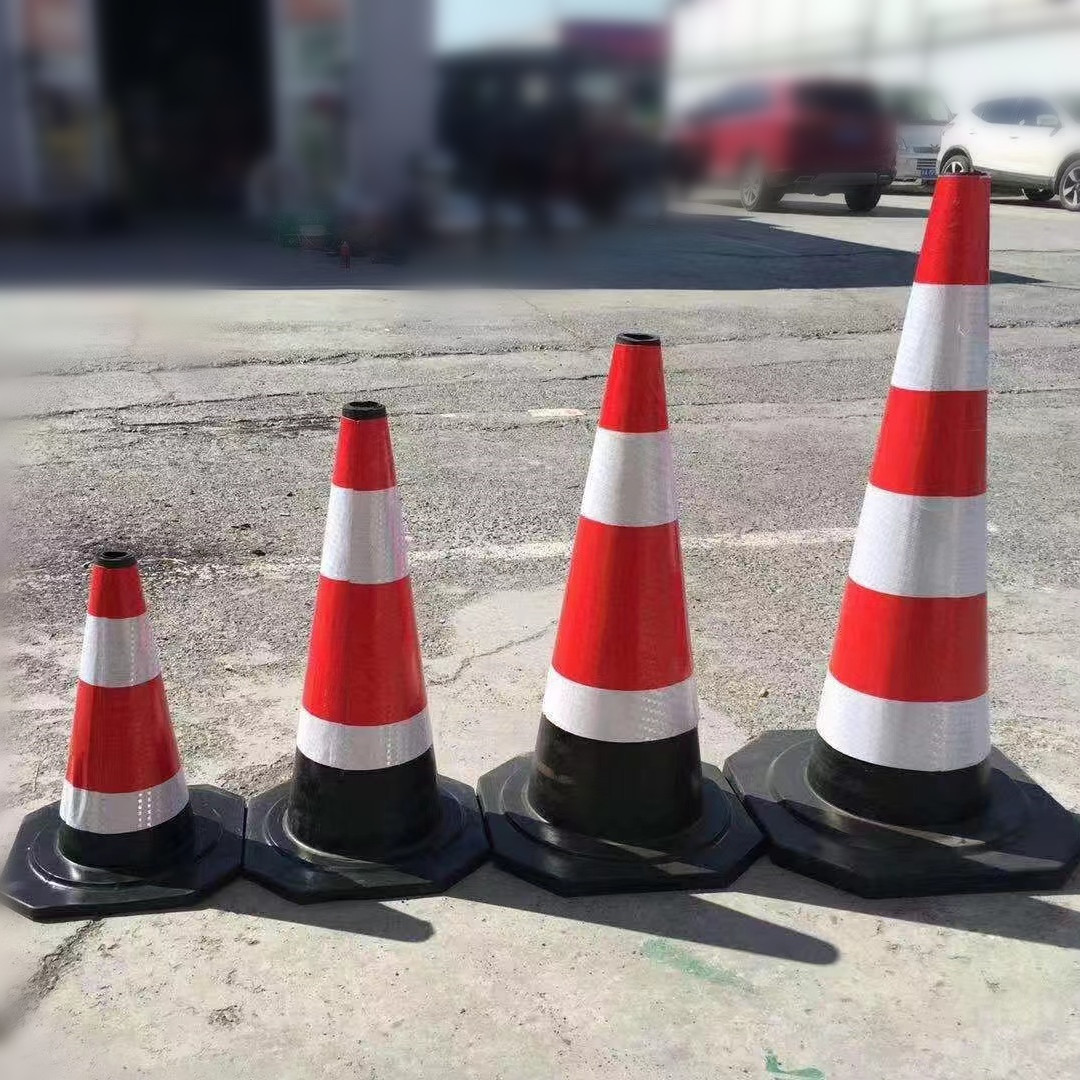traffic_cone: (789, 165, 1075, 906), (511, 336, 759, 897), (263, 399, 480, 902), (28, 544, 232, 914)
